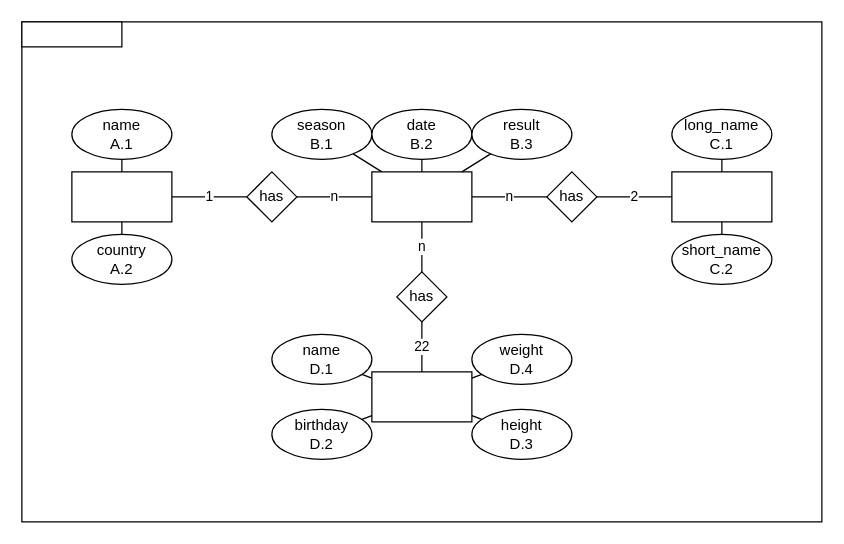
Image size: 844x544. Some labels were removed from this diagram. Here are the shapes that lost their labels. From the top down, the centre of each, then its label:
At [71,34]: "football".
At [121,196]: "League A".
At [421,196]: "Game B".
At [721,196]: "Team c".
At [421,396]: "Player D".
